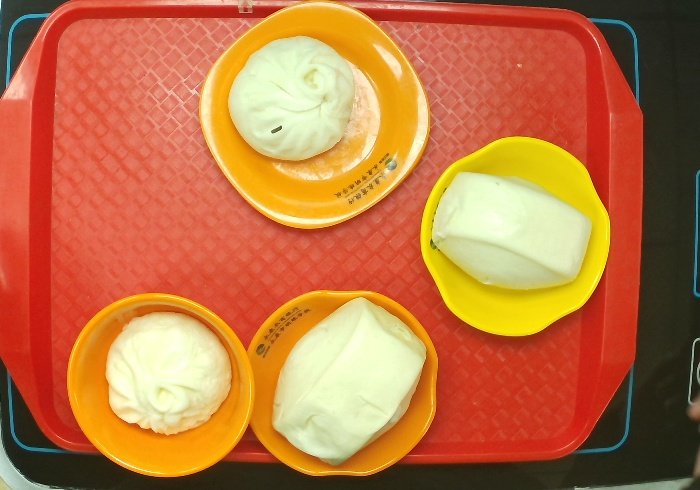YKMZ-Ju_Se_Fang_Die: (197, 3, 429, 231)
